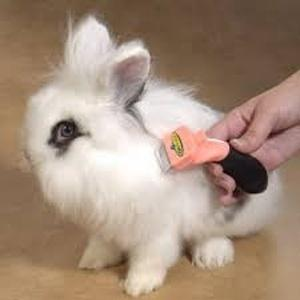rabbit: (25, 14, 300, 296)
